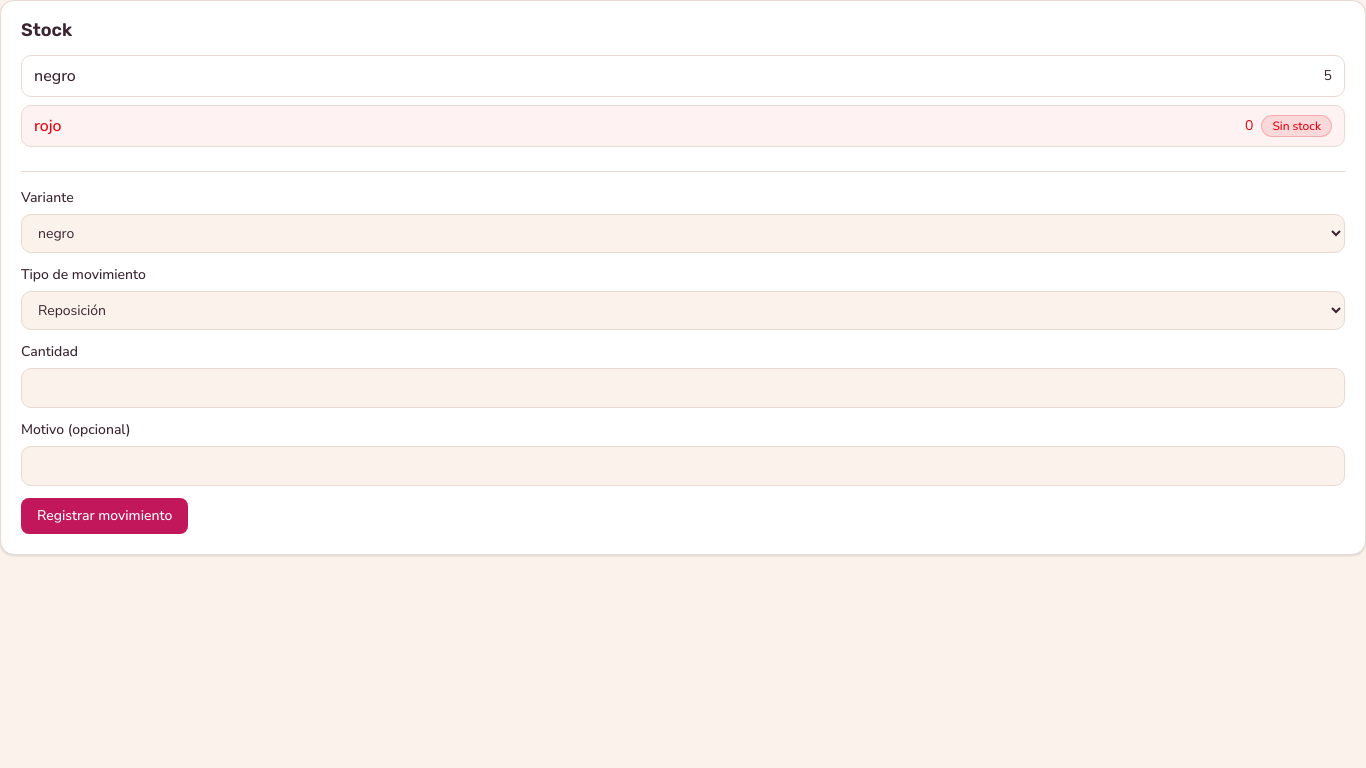
it: StockManager › surfaces a submission error via role=alert
The image size is (1366, 768).
Type "3" into the number field labelled "Cantidad" at (683, 388), box [21,368,1345,408]
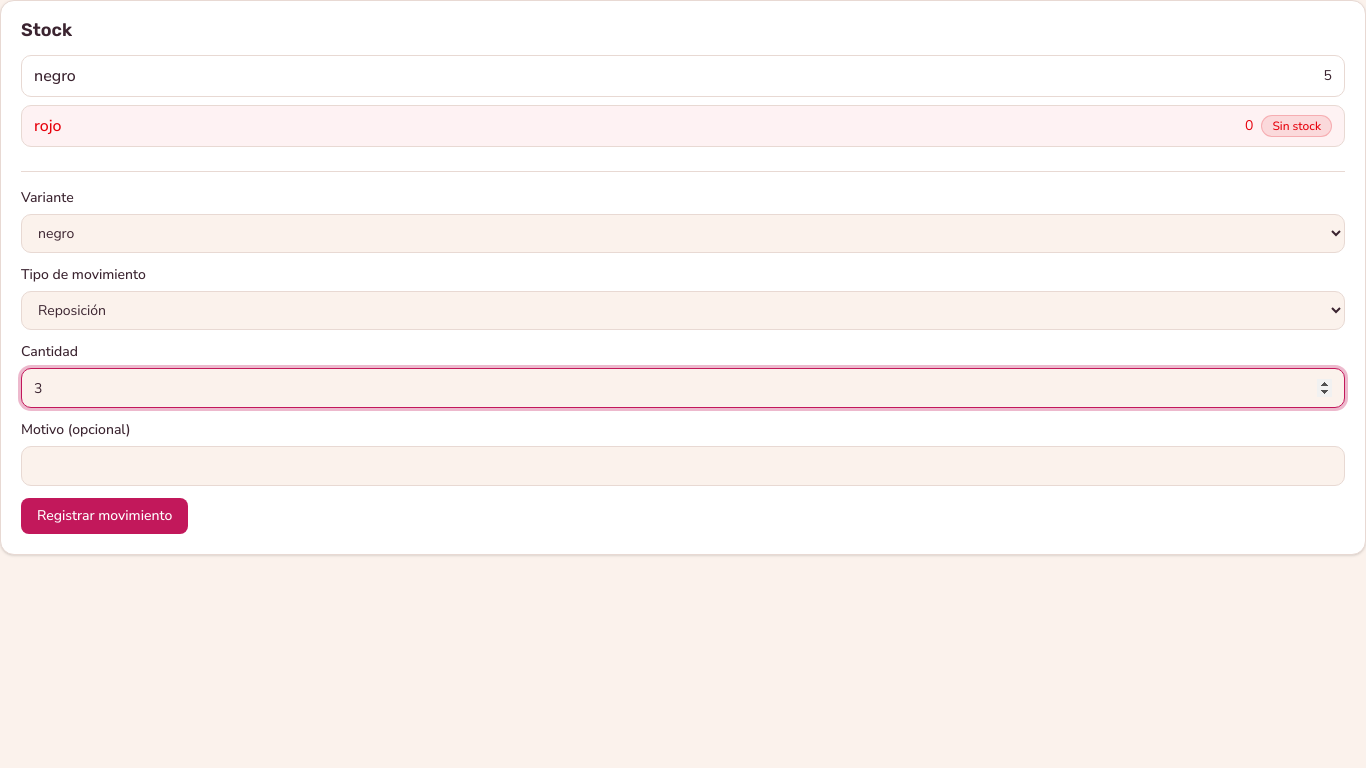
Click the button "Registrar movimiento" at (105, 516), box [21,498,188,534]
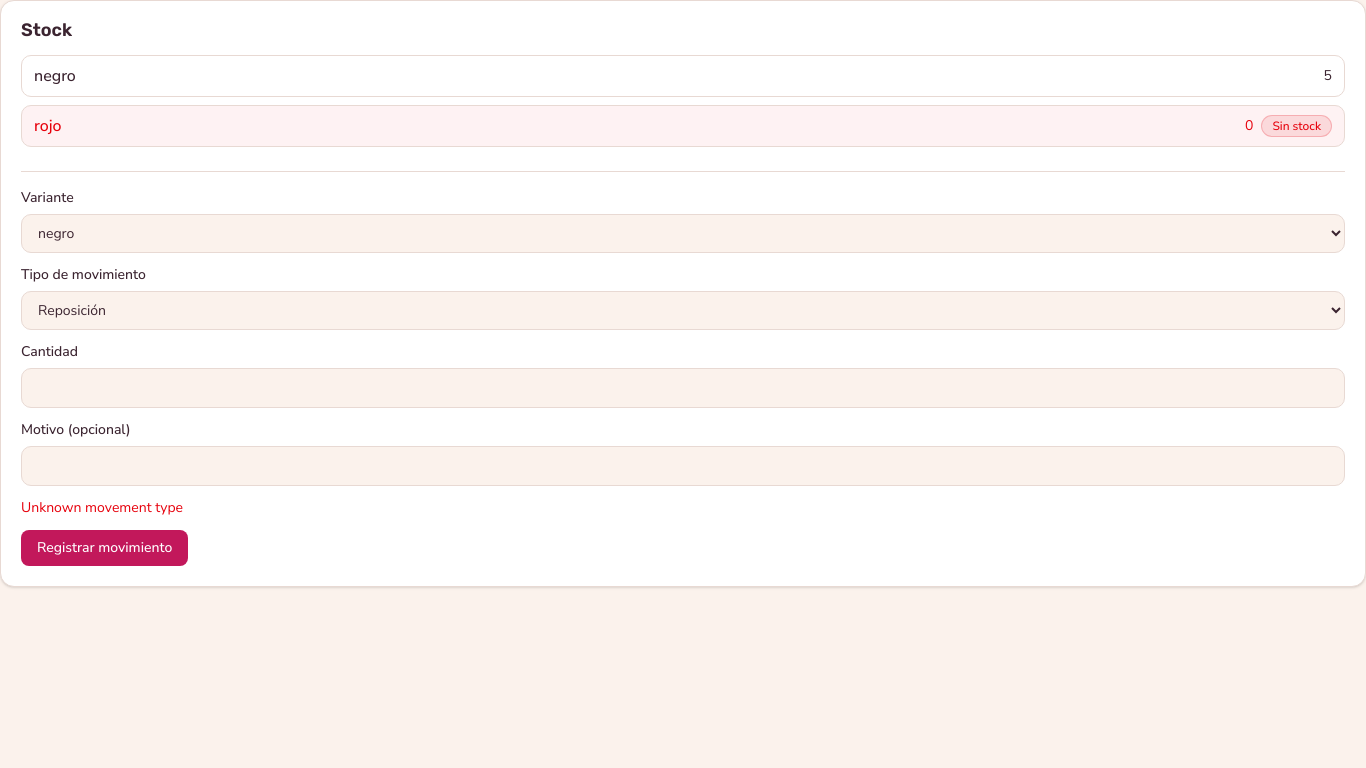
expect the message reads "Unknown movement type": met, box [21,498,183,517]
